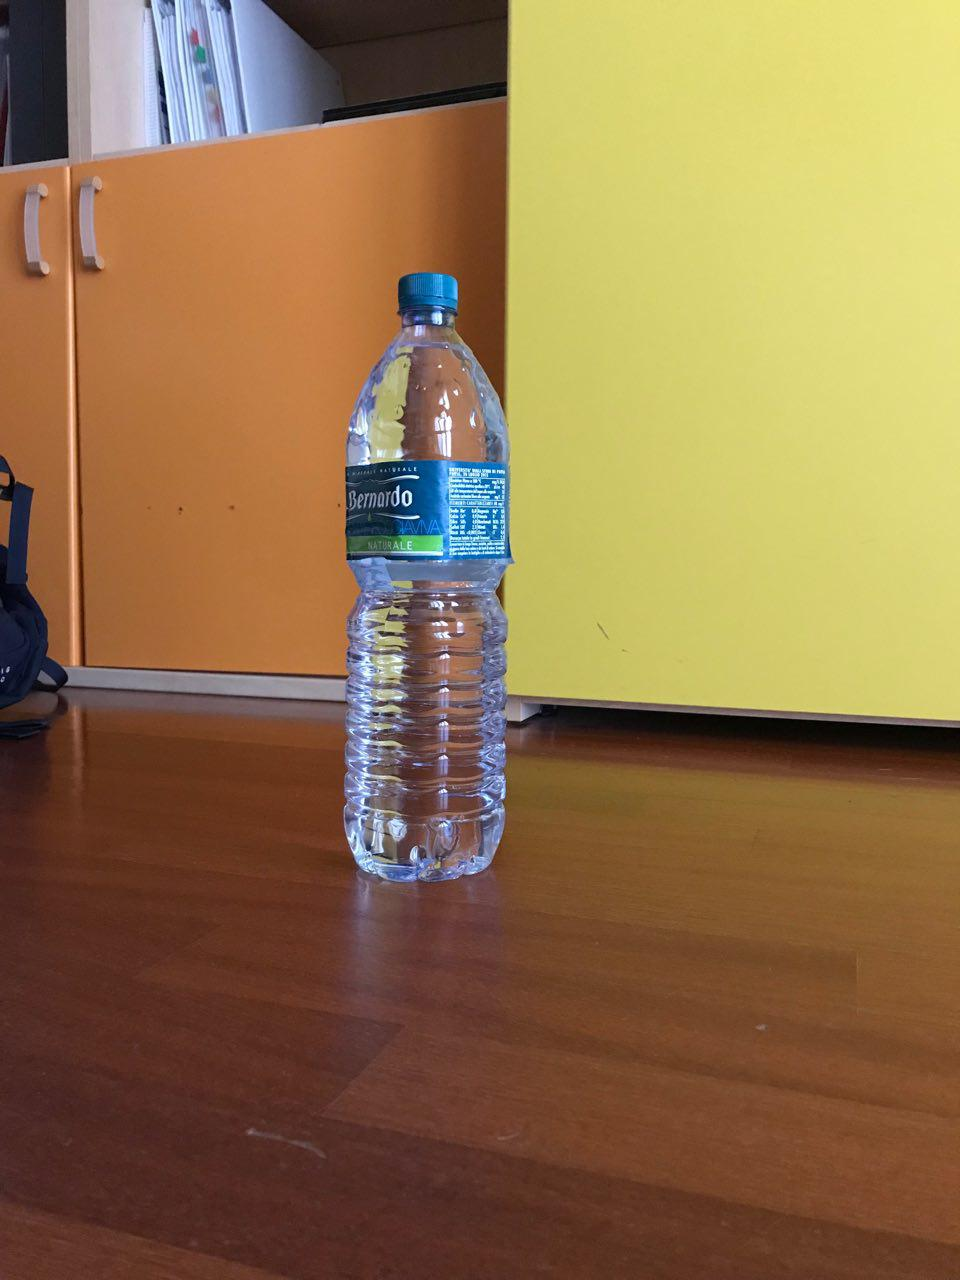san_bernardo: (340, 270, 514, 887)
